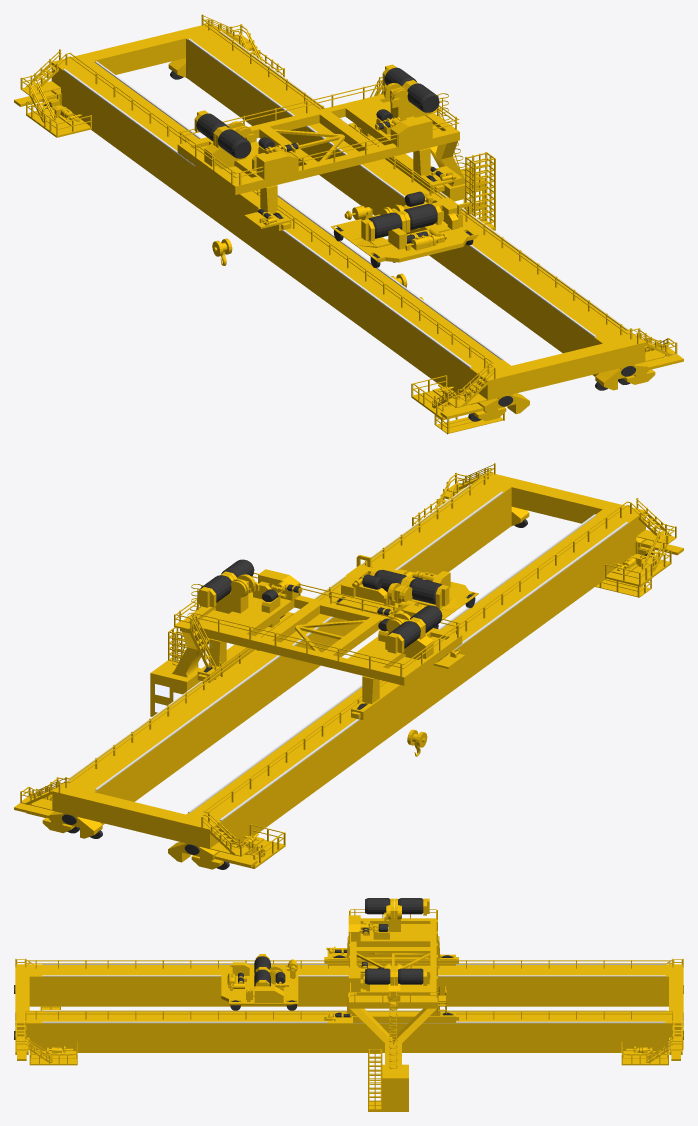
The picture shows the model from 3 angles, top to bottom: view 1: azimuth 30°, elevation 25°; view 2: azimuth 150°, elevation 25°; view 3: azimuth 270°, elevation 25°; orthographic projection. The views are drawn at different scales.
Parts seen in each view (by area): view 1: 2_Bay_C_870_Body, 2_Bay_C_870_Head_01, 2_Bay_C_870_Head_02; view 2: 2_Bay_C_870_Body, 2_Bay_C_870_Head_01, 2_Bay_C_870_Head_02; view 3: 2_Bay_C_870_Body, 2_Bay_C_870_Head_01, 2_Bay_C_870_Head_02.
Part boxes in pixels (bbox=[...]): 2_Bay_C_870_Body: bbox=[14, 14, 683, 434]; 2_Bay_C_870_Head_01: bbox=[177, 64, 495, 265]; 2_Bay_C_870_Head_02: bbox=[330, 191, 478, 300]; 2_Bay_C_870_Body: bbox=[14, 463, 683, 869]; 2_Bay_C_870_Head_01: bbox=[150, 559, 464, 756]; 2_Bay_C_870_Head_02: bbox=[332, 555, 478, 628]; 2_Bay_C_870_Body: bbox=[14, 958, 683, 1065]; 2_Bay_C_870_Head_01: bbox=[324, 898, 458, 1111]; 2_Bay_C_870_Head_02: bbox=[221, 954, 298, 1010].
Bounding box in the file's own units: 16.93 × 8.91 × 46.11.
